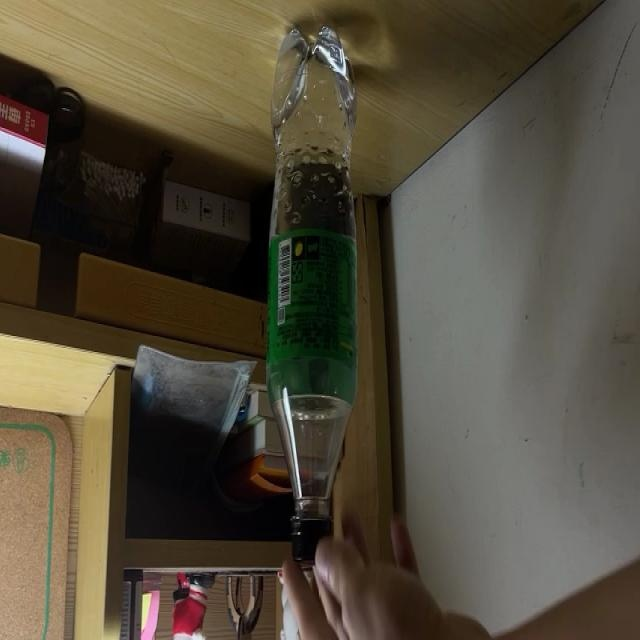Sprite: (266, 18, 358, 567)
